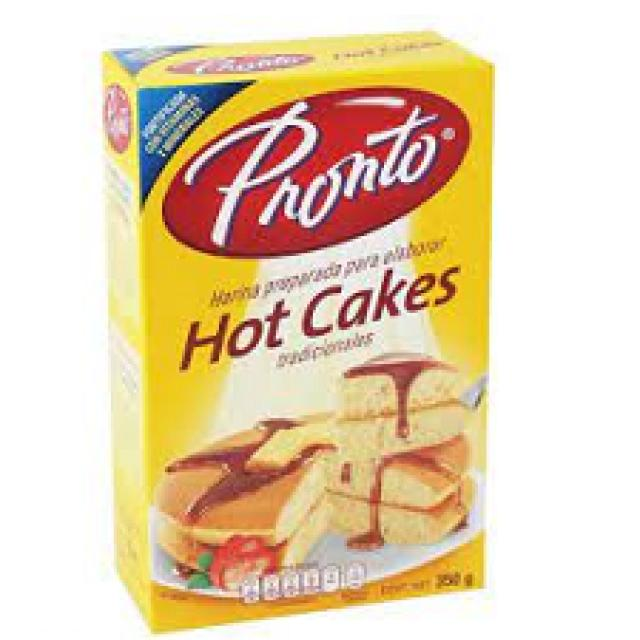Caja: (80, 21, 486, 610)
